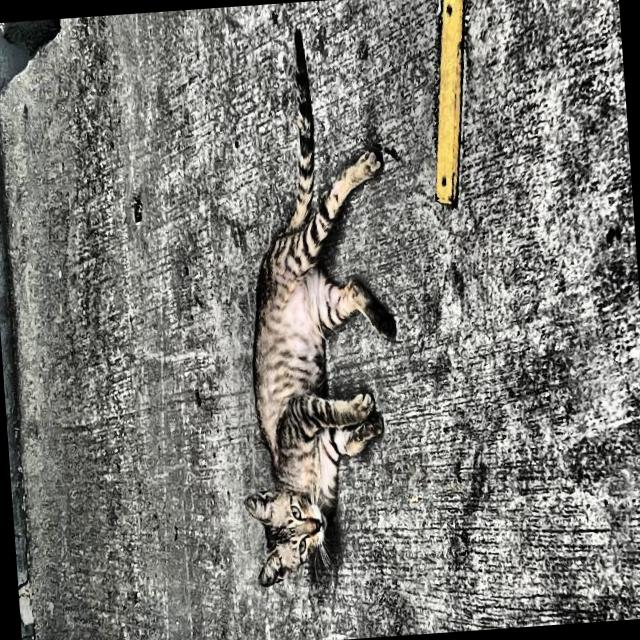Healthy skin: (260, 262, 336, 486)
